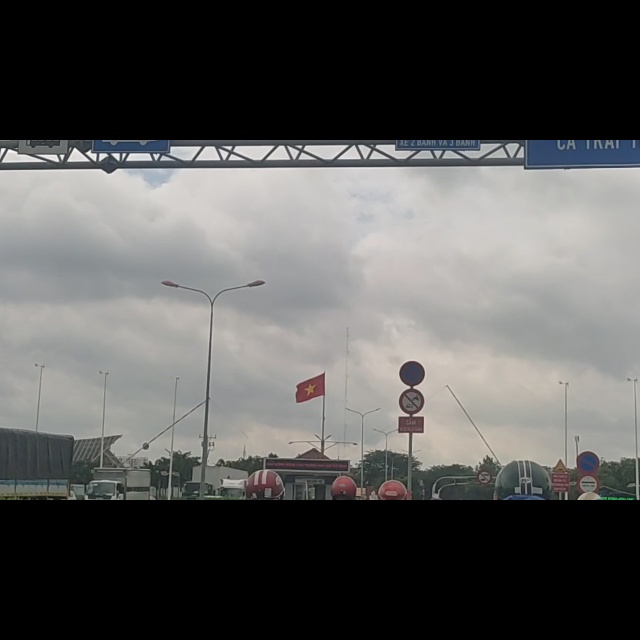bien_nguy_hiem: (399, 443, 425, 487), (400, 392, 425, 437), (578, 555, 600, 591), (579, 593, 599, 627), (477, 587, 492, 613), (553, 565, 568, 590)
